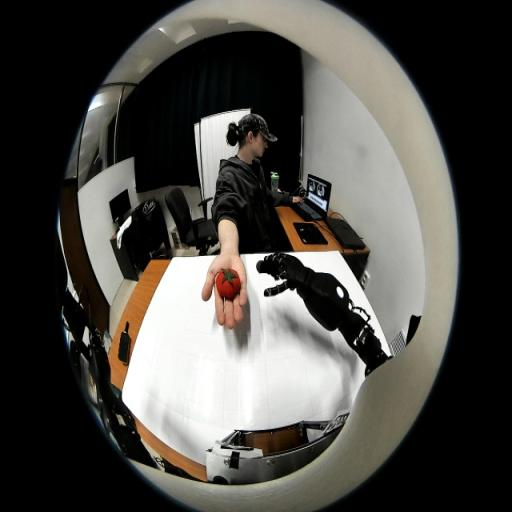RightHand: (288, 258, 303, 278)
Tomato: (216, 268, 241, 300)
